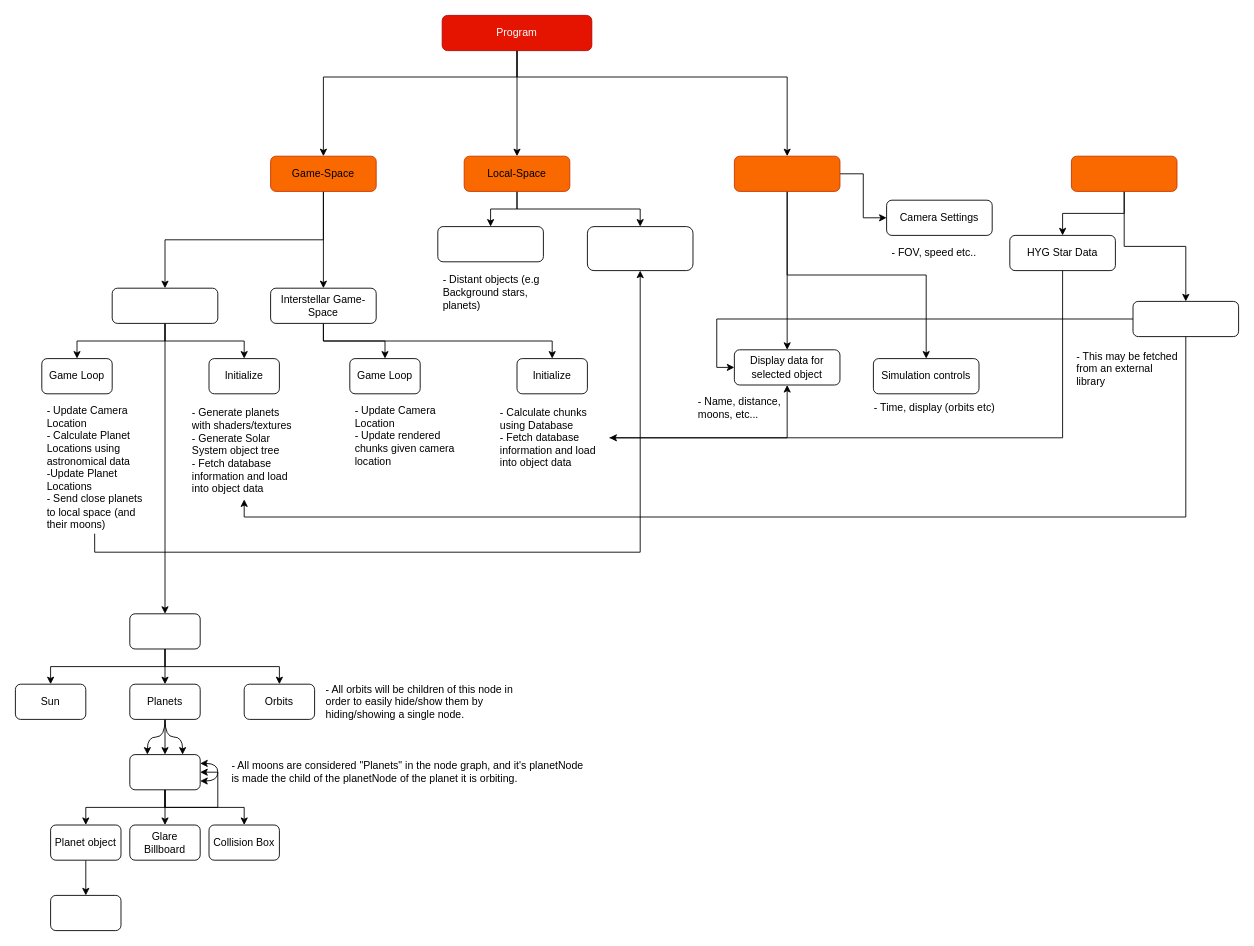
Image size: 1254x946. Some labels were removed from this diagram. Here are the shapes that lost their labels. From the top down, the centre of each, then its label:
At [786,173]: "UI".
At [1124,173]: "Database".
At [490,244]: "Projection Sphere".
At [640,248]: "Local objects in local coordinates".
At [164,305]: "Planetary Game-Space".
At [1185,319]: "Planet Data".
At [164,631]: "Solar System".
At [164,772]: "Planet Node".
At [85,913]: "Extra details (e.g Rings)".
